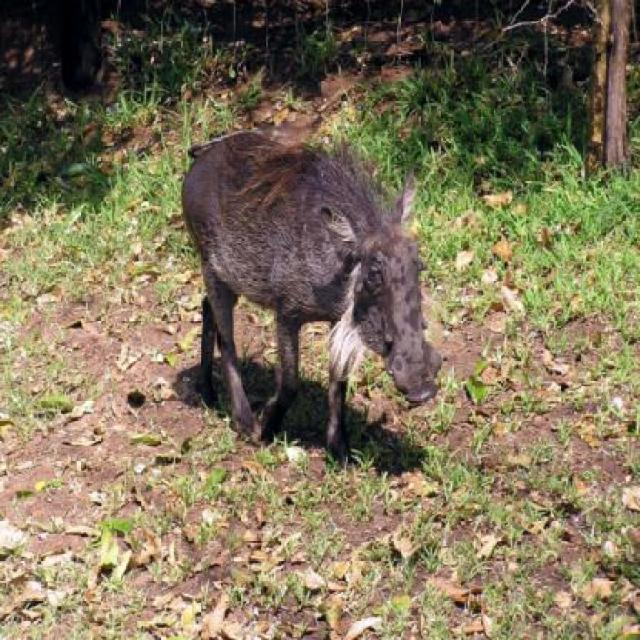pig: (165, 101, 476, 442)
